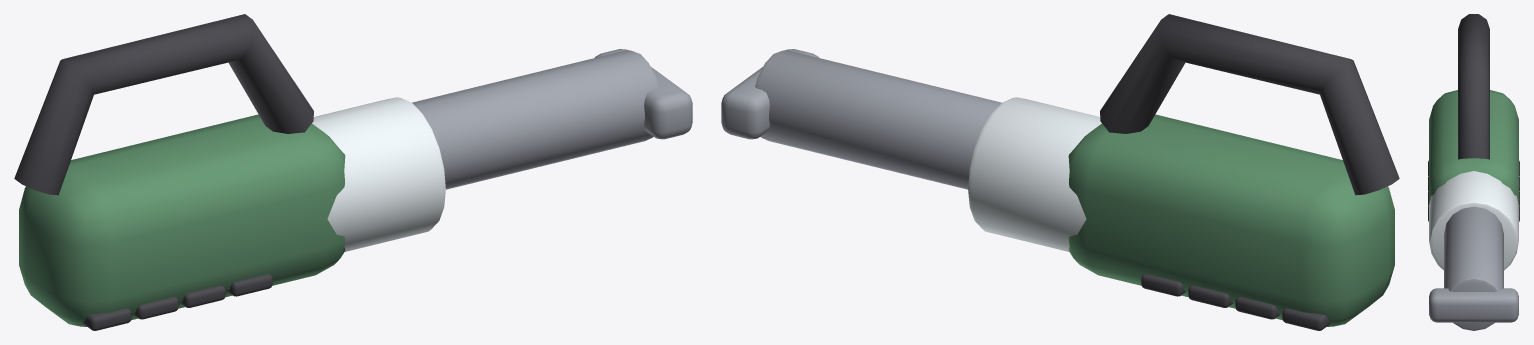
File: vacuum.glb
3 renders of one model, left to right at view 1: azimuth 30°, elevation 25°; view 2: azimuth 150°, elevation 25°; view 3: azimuth 270°, elevation 25°, orthographic. The views are drawn at different scales.
Parts seen in each view (by area): view 1: body, nozzle, handle, cup, mouth, vent0, vent1, vent3, vent2; view 2: body, nozzle, handle, cup, mouth, vent0, vent1, vent3, vent2; view 3: body, nozzle, handle, cup, mouth.
Part boxes in pixels (<box>): body: <box>19,114,345,326</box>; nozzle: <box>412,50,658,189</box>; handle: <box>14,14,313,195</box>; cup: <box>312,97,445,251</box>; mouth: <box>594,49,692,139</box>; vent0: <box>83,308,131,330</box>; vent1: <box>134,297,178,319</box>; vent3: <box>228,274,272,296</box>; vent2: <box>181,285,225,307</box>; body: <box>1068,114,1394,326</box>; nozzle: <box>755,50,1001,189</box>; handle: <box>1100,14,1399,195</box>; cup: <box>968,97,1101,251</box>; mouth: <box>721,49,819,139</box>; vent0: <box>1282,308,1330,330</box>; vent1: <box>1235,297,1279,319</box>; vent3: <box>1141,274,1185,296</box>; vent2: <box>1188,285,1232,307</box>; body: <box>1429,90,1518,204</box>; nozzle: <box>1444,206,1503,330</box>; handle: <box>1458,14,1489,159</box>; cup: <box>1429,171,1518,270</box>; mouth: <box>1429,288,1518,322</box>.
Size of the model in its own units: 0.479 by 0.1832 by 0.092.
